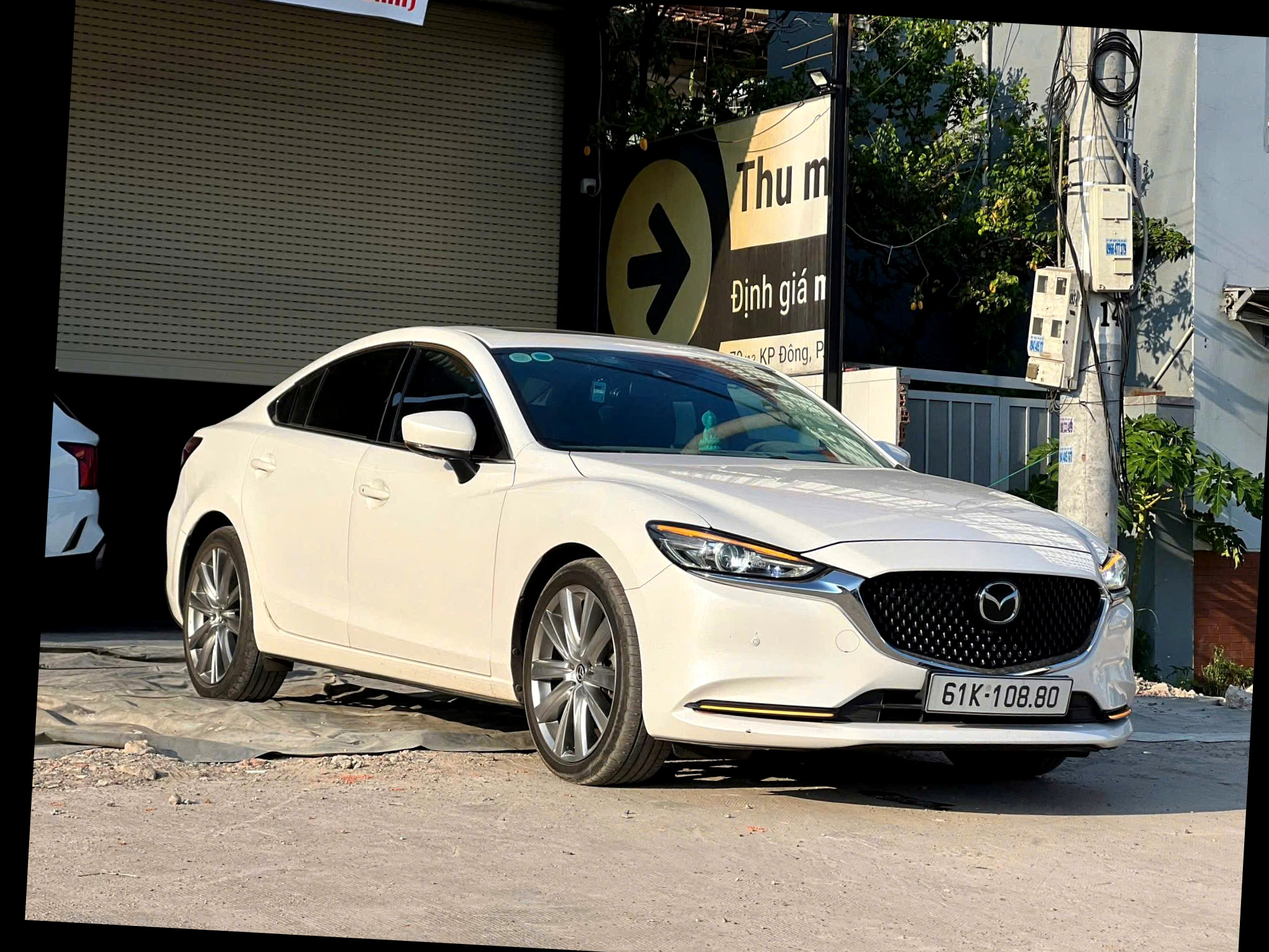Bien-so: (871, 681, 1019, 732)
